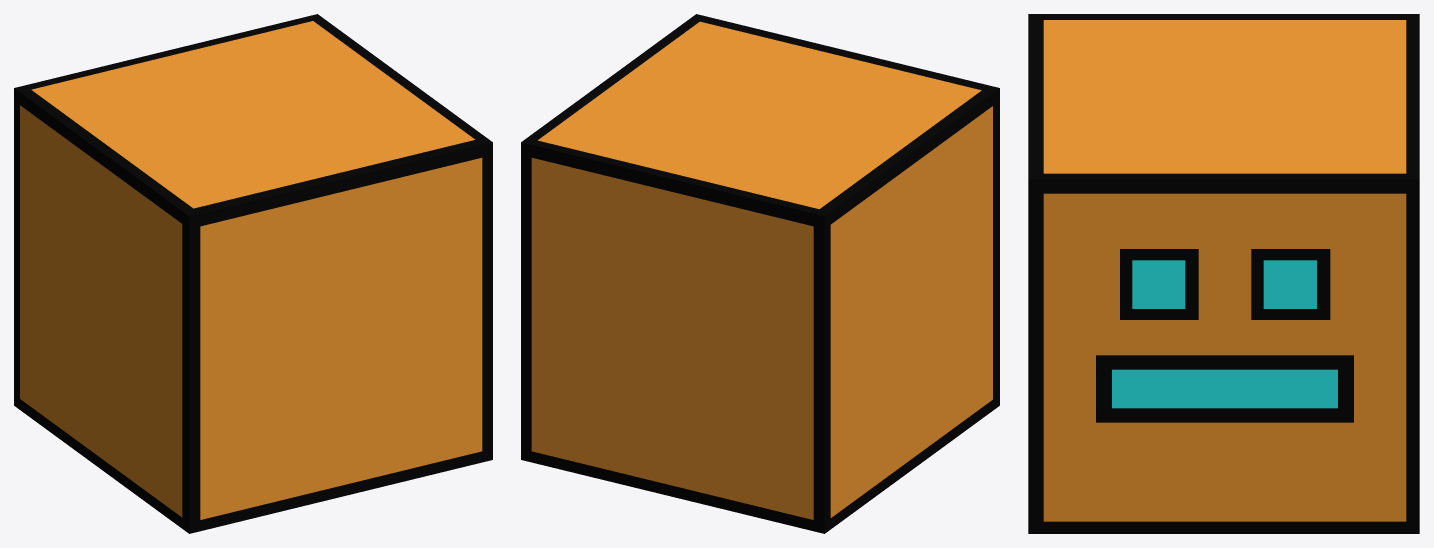
3 renders of one model, left to right at view 1: azimuth 30°, elevation 25°; view 2: azimuth 150°, elevation 25°; view 3: azimuth 270°, elevation 25°, orthographic. The views are drawn at different scales.
Visible parts, largest first — view 1: Geometry Dash Icon_0; view 2: Geometry Dash Icon_0; view 3: Geometry Dash Icon_0.
Part boxes in pixels (x1,y1,x2,y2): Geometry Dash Icon_0: (14,14,492,533); Geometry Dash Icon_0: (521,14,999,533); Geometry Dash Icon_0: (1028,14,1419,533).
Bounding box in the file's own units: 2.74 × 2.74 × 2.74.
